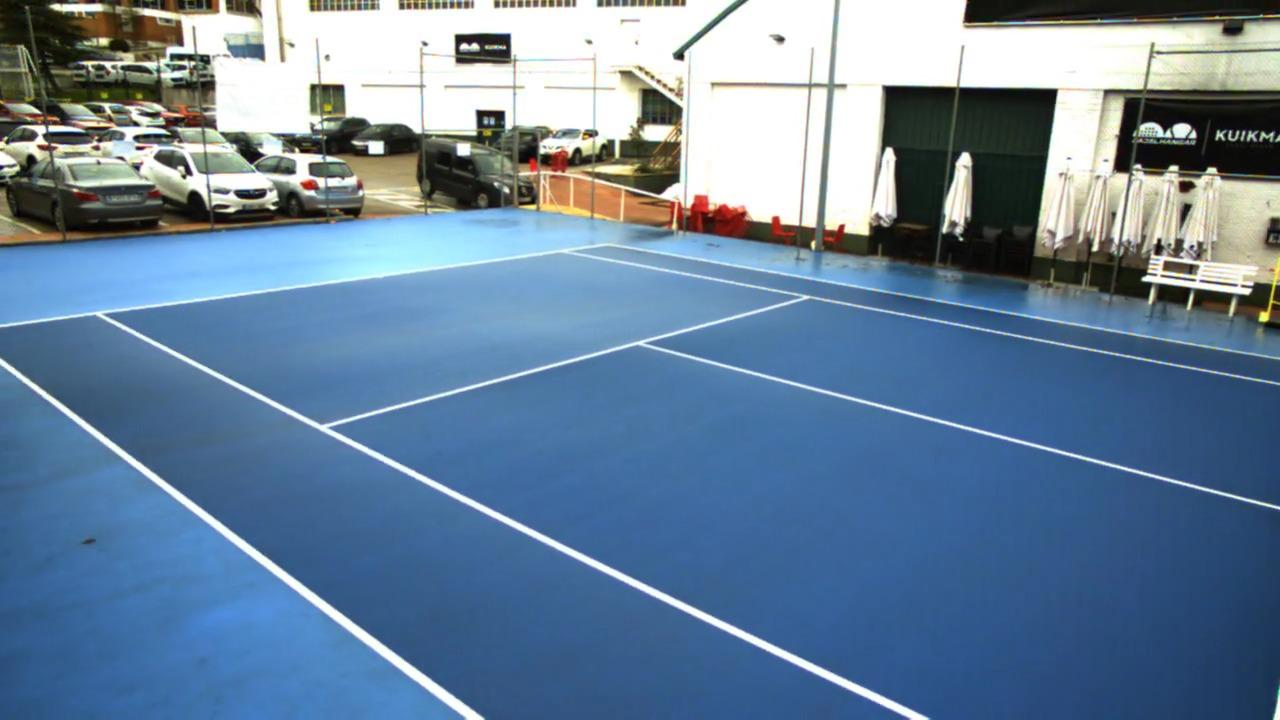cancha_tenis: (99, 248, 1280, 720)
point_f1: (87, 301, 116, 324)
point_f2: (551, 240, 577, 261)
point_fc1: (375, 271, 389, 282)
point_i2: (309, 412, 338, 442), (789, 288, 818, 306)
point_ic1: (630, 331, 658, 355)
